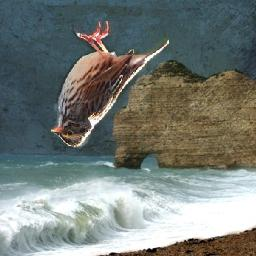Sparrow: (49, 21, 170, 149)
